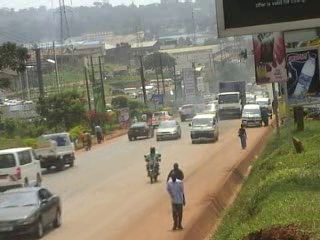Car: (0, 183, 65, 238), (155, 118, 184, 142), (126, 120, 156, 143), (151, 110, 173, 129), (201, 102, 219, 118)
Motorcycle: (142, 144, 163, 185), (78, 128, 93, 153)
